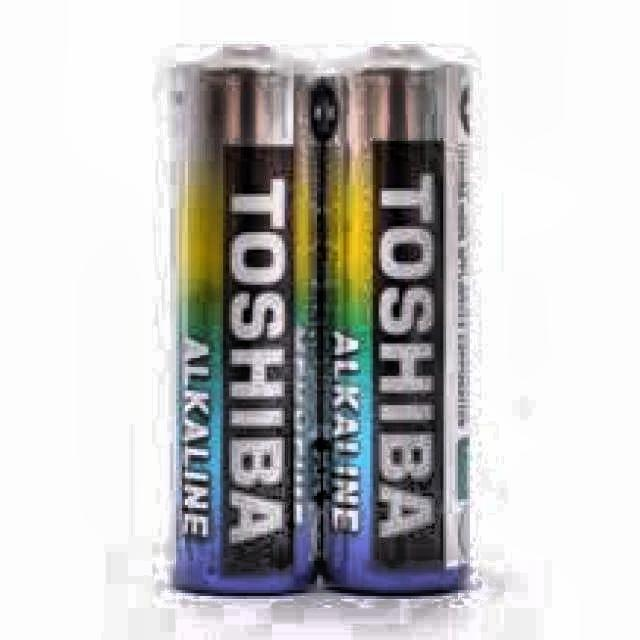Non-Valuable Waste - Batteries: (173, 47, 470, 594)
